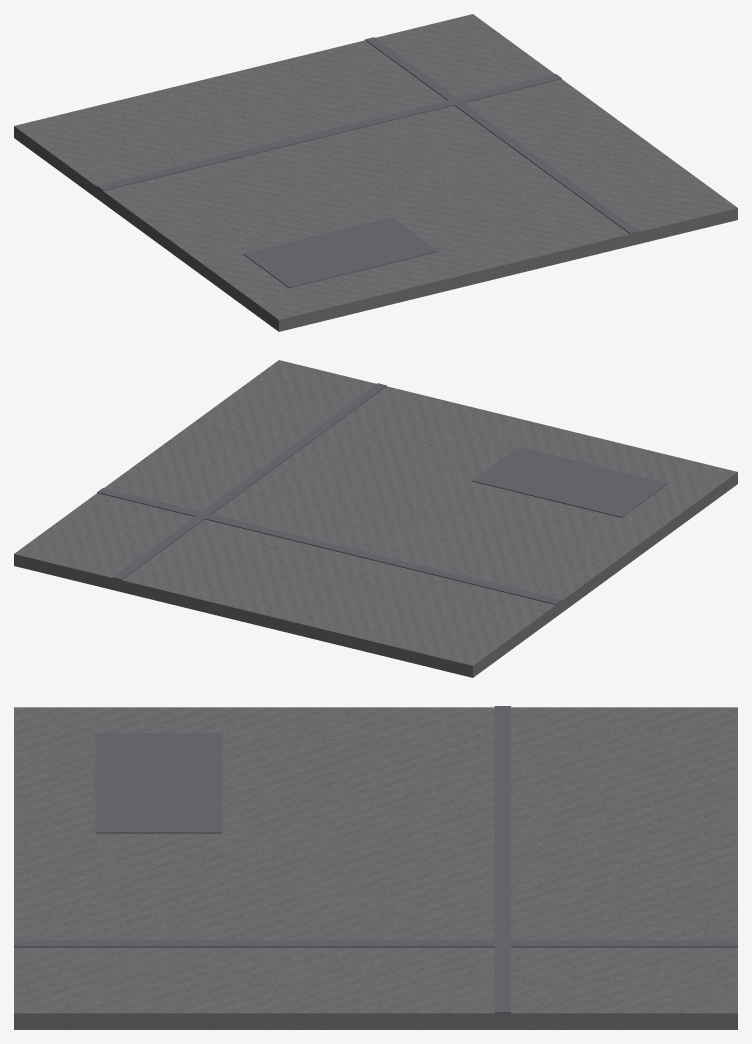
File: alley_floor_slab.glb
The picture shows the model from 3 angles, top to bottom: view 1: azimuth 30°, elevation 25°; view 2: azimuth 150°, elevation 25°; view 3: azimuth 270°, elevation 25°; orthographic projection. The views are drawn at different scales.
Parts seen in each view (by area): view 1: alley-floor-slab-asphalt, alley-floor-slab-charcoal; view 2: alley-floor-slab-asphalt, alley-floor-slab-charcoal; view 3: alley-floor-slab-asphalt, alley-floor-slab-charcoal.
Part boxes in pixels (<box>): alley-floor-slab-asphalt: <box>14,14,737,331</box>; alley-floor-slab-charcoal: <box>97,37,639,288</box>; alley-floor-slab-asphalt: <box>14,360,737,677</box>; alley-floor-slab-charcoal: <box>97,383,667,604</box>; alley-floor-slab-asphalt: <box>14,707,737,1029</box>; alley-floor-slab-charcoal: <box>14,706,737,1013</box>.
Bounding box in the file's own units: 4 × 0.108 × 4.
2 materials, 1 textured.
